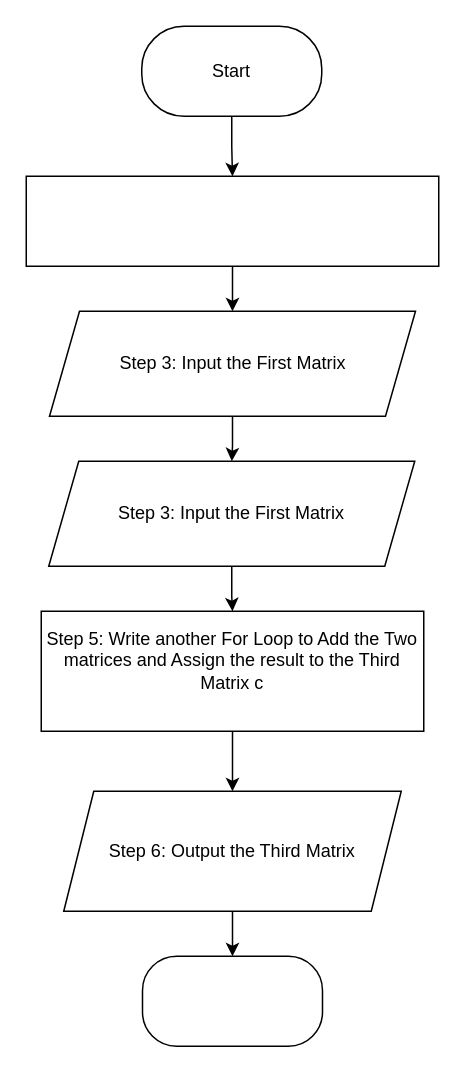
The diagram is 465 pixels wide and 1073 high, and some of its shapes have lost their labels. Each missing label, with the centre of its shape:
End: [231,1000]
Step 2: Declare 3 Matrices of Size [3][3] each and assign them to zero.: [232,220]
